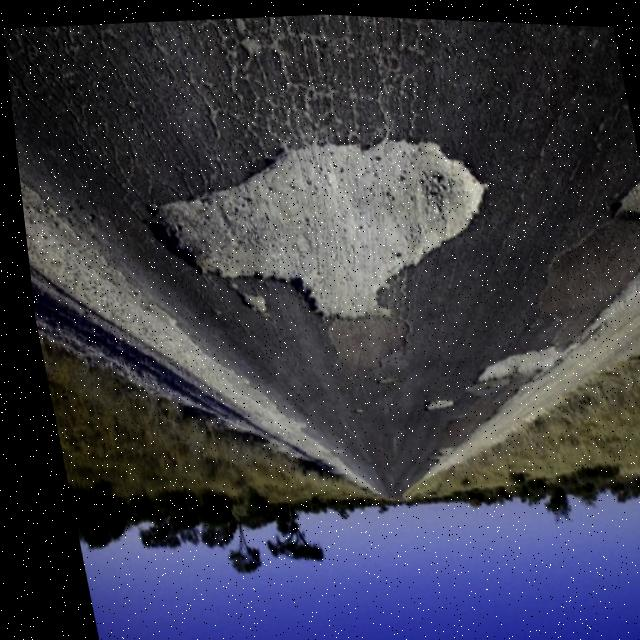Pothole: (133, 118, 505, 336), (458, 336, 560, 387), (596, 161, 640, 224), (415, 391, 445, 409)
